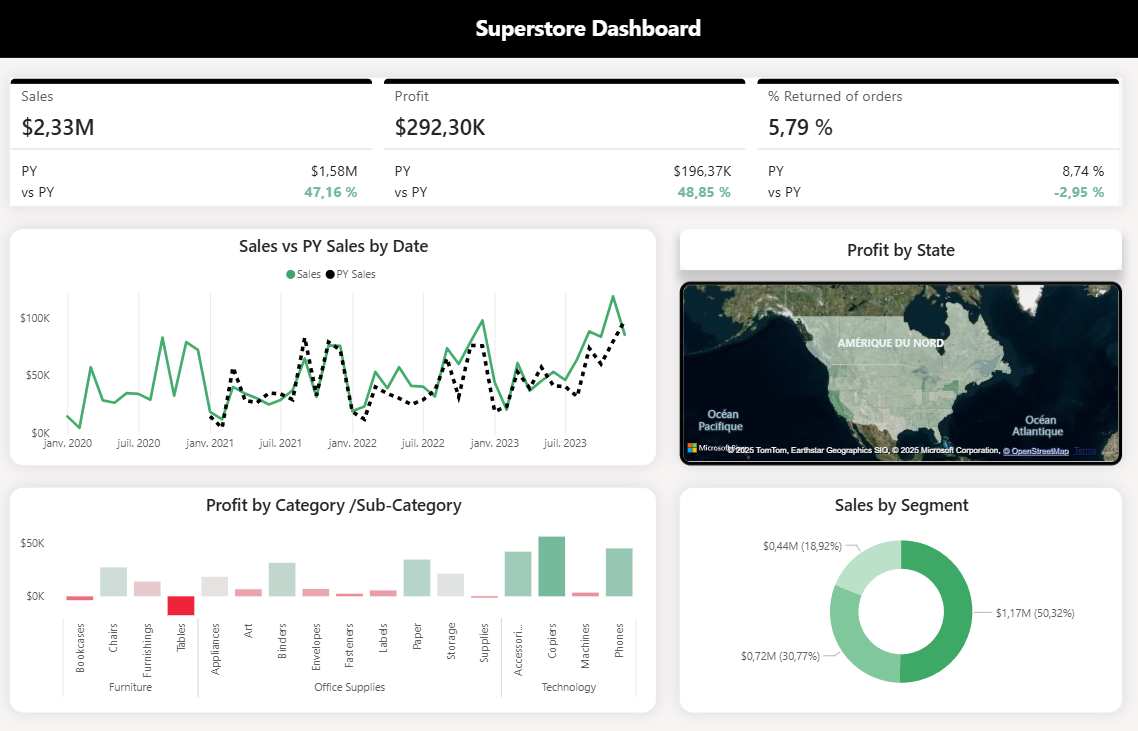

The page's visual inventory and layout, read from the dashboard file:
{"tool":"powerbi","page":{"name":"Page 1","canvas":[1280,820],"ordinal":0},"visuals":[{"type":"cardVisual","fields":{"Data":["Key measures.Sales","Key measures.Profit","Key measures.% Returned of orders"]},"box":[15.3,87.7,1239.5,143.4],"z":0},{"type":"lineChart","title":"Sales vs PY Sales by Date","fields":{"Category":["Date Table.Start date"],"Y":["Key measures.Sales","Key measures.PY Sales"]},"box":[15.3,256.3,720,263.2],"z":1000},{"type":"clusteredColumnChart","title":"Profit by Category /Sub-Category","fields":{"Category":["Orders.Category","Orders.Sub-Category"],"Y":["Key measures.Profit"]},"box":[15.3,544.5,720,250.7],"z":2000},{"type":"filledMap","fields":{"Category":["Orders.State/Province"]},"box":[761.8,314.5,493,204.7],"z":3000},{"type":"shape","box":[761.8,256,493,46],"z":4000},{"type":"textbox","box":[795.2,261.8,426.2,34.8],"z":5000},{"type":"donutChart","title":"Sales by Segment","fields":{"Y":["Key measures.Sales"],"Category":["Orders.Segment"]},"box":[761.8,544.5,493,250.7],"z":6000},{"type":"textbox","box":[0,0,1280,65.5],"z":7000}]}

Visuals, with their boxes in screenshot pixels (x1, y1, x2, y2), scaled from the page's 1280x820 canvas onto the 1138x731 screenshot:
cardVisual - Key measures.Sales x Key measures.Profit: [x1=14, y1=78, x2=1116, y2=206]
"Sales vs PY Sales by Date" lineChart: [x1=14, y1=228, x2=654, y2=463]
"Profit by Category /Sub-Category" clusteredColumnChart: [x1=14, y1=485, x2=654, y2=709]
filledMap - Orders.State/Province: [x1=677, y1=280, x2=1116, y2=463]
shape: [x1=677, y1=228, x2=1116, y2=269]
textbox: [x1=707, y1=233, x2=1086, y2=264]
"Sales by Segment" donutChart: [x1=677, y1=485, x2=1116, y2=709]
textbox: [x1=0, y1=0, x2=1137, y2=58]
